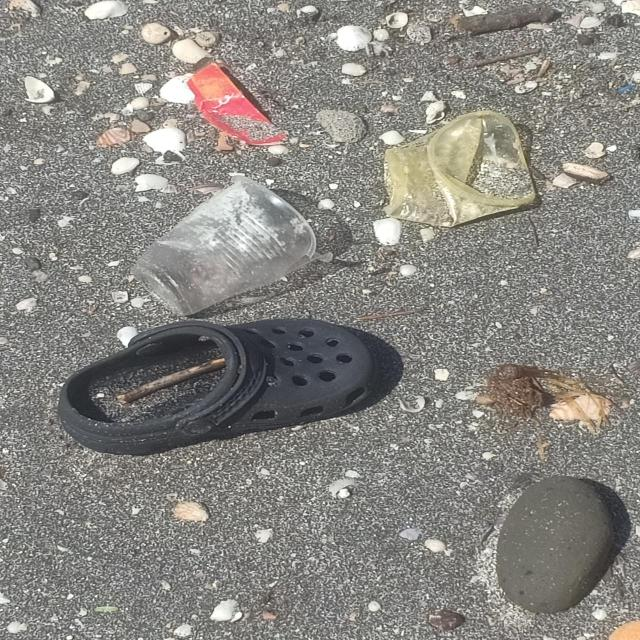plastic_waste: (131, 178, 322, 320), (386, 111, 537, 229), (188, 64, 291, 147)
rubber_waste: (56, 319, 378, 458)
